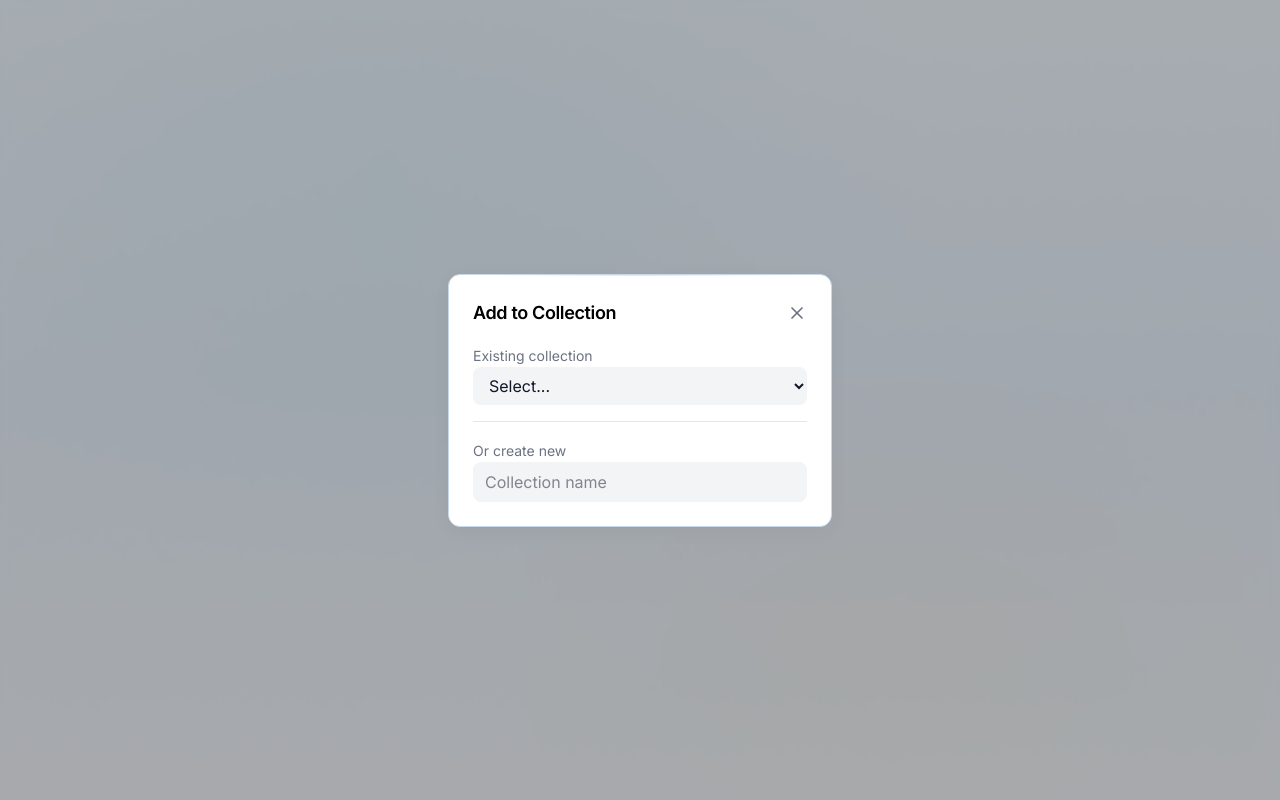
Test: AddToCollectionModal › shows add button when existing collection is selected
The width and height of the screenshot is (1280, 800).
Select "My Collection (5)" in the dropdown: point(640, 386) left=473, top=366, right=807, bottom=404
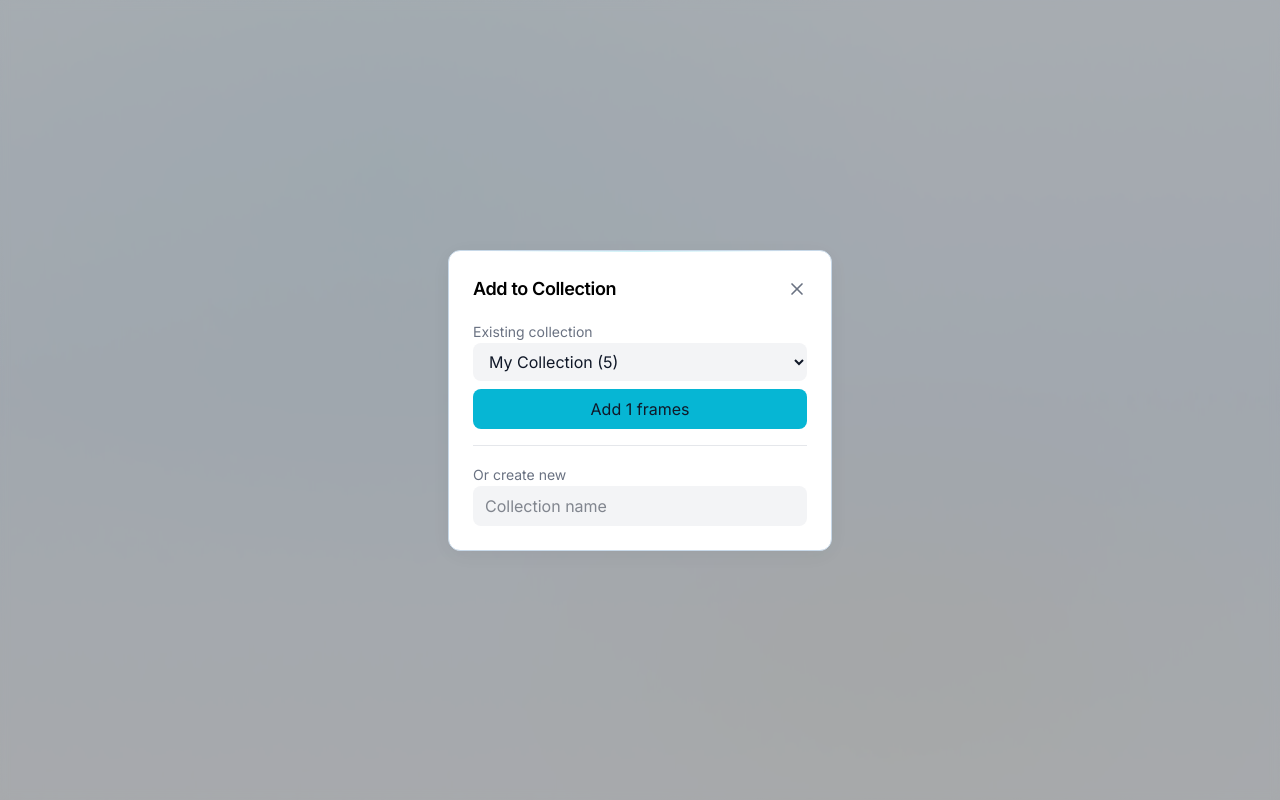
Check: the button "Add 1 frames" is shown, box left=473, top=388, right=807, bottom=428
